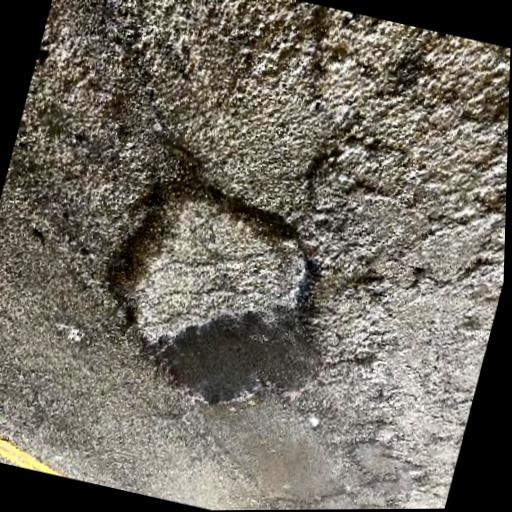pothole: (72, 134, 370, 436)
